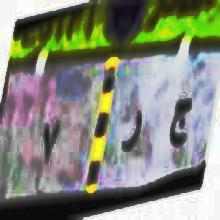7: (38, 119, 64, 168)
jeem: (167, 92, 193, 153)
raa: (118, 103, 146, 152)
